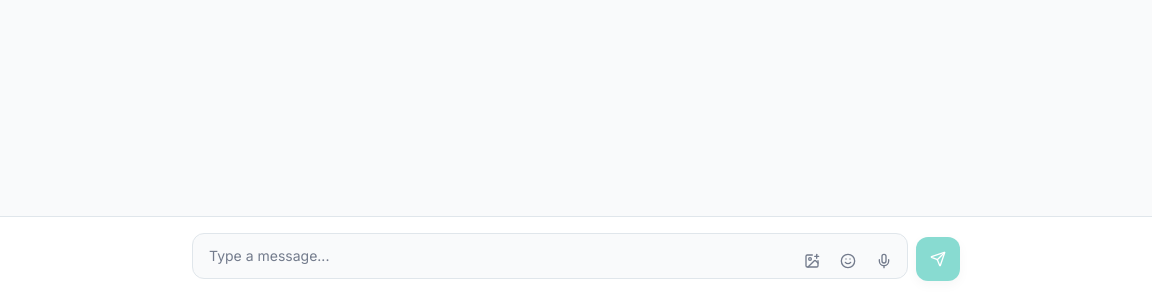
Scenario: MessageInput › opens emoji picker, filters emojis, and inserts emoji
Click the button named "emoji picker": (848, 261) [832,245,864,277]
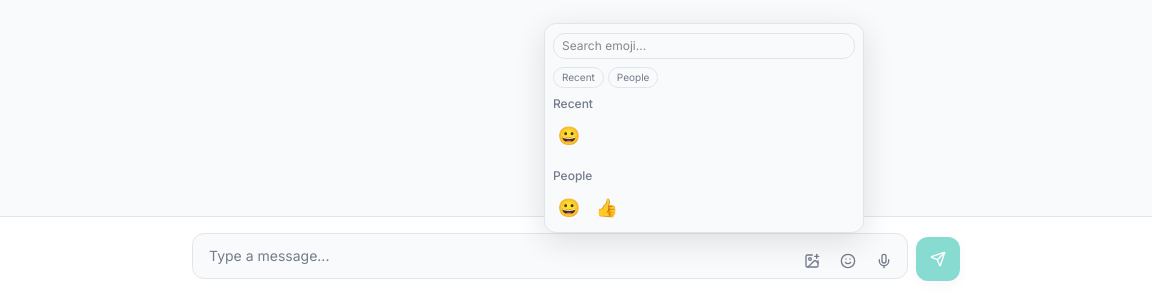
In the field with placeholder "Search emoji...": (704, 46) [553,33,855,59], type "thumb"
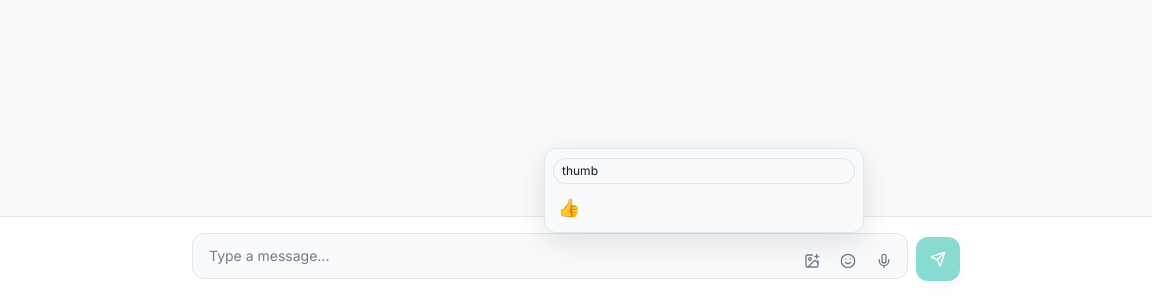
Click the button "👍": (569, 208) [553,192,585,224]
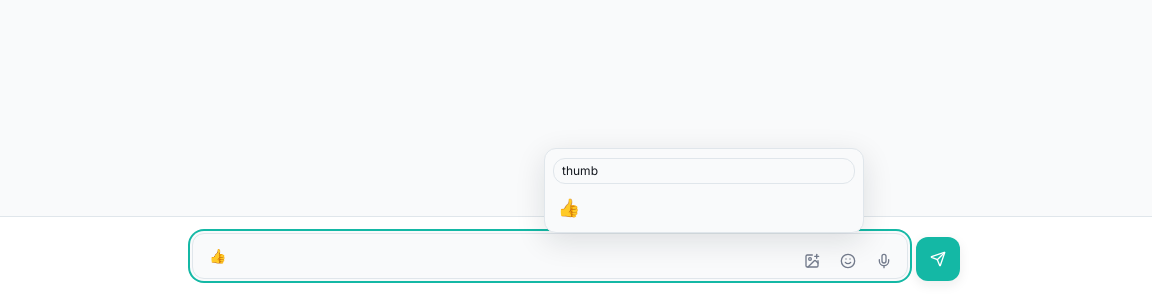
expect the text box with placeholder "Type a message..." holds "👍": met, box [192,233,908,279]
